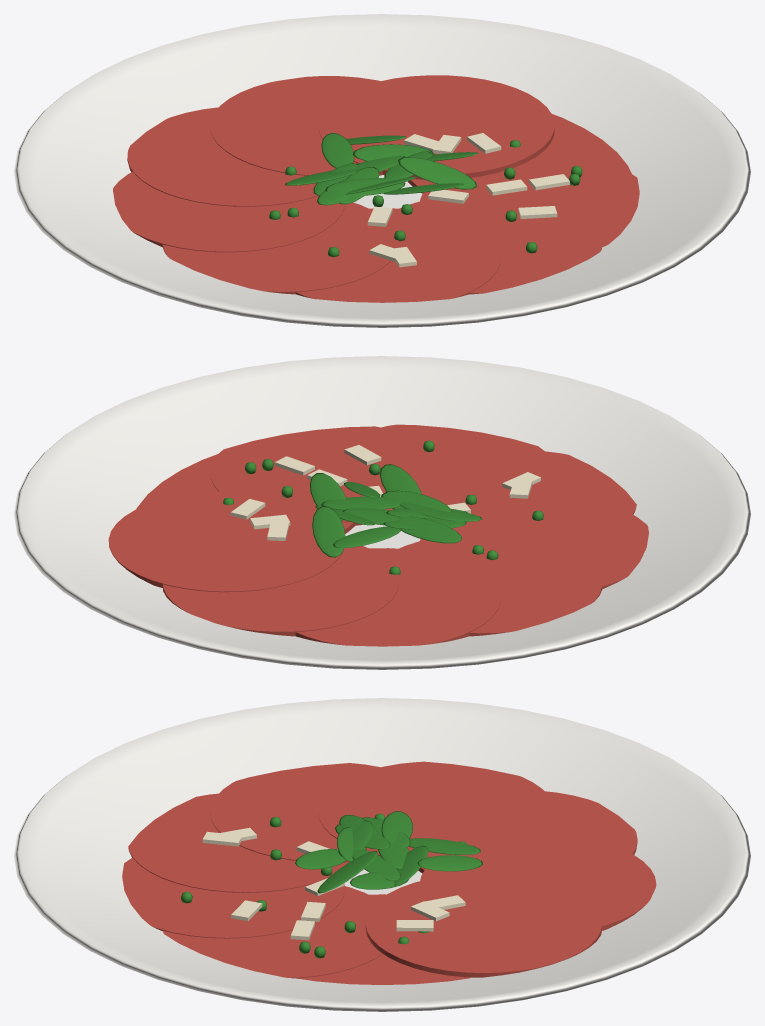
The model's file is carpaccio.glb.
3 renders of one model, top to bottom at view 1: azimuth 30°, elevation 25°; view 2: azimuth 150°, elevation 25°; view 3: azimuth 270°, elevation 25°, orthographic.
Parts seen in each view (by area): view 1: carpaccio; view 2: carpaccio; view 3: carpaccio.
Part boxes in pixels (x1,y1,x2,y2): carpaccio: [14, 14, 750, 327]; carpaccio: [14, 356, 750, 669]; carpaccio: [14, 698, 750, 1011].
Bounding box in the file's own units: 0.28 × 0.025 × 0.28.
